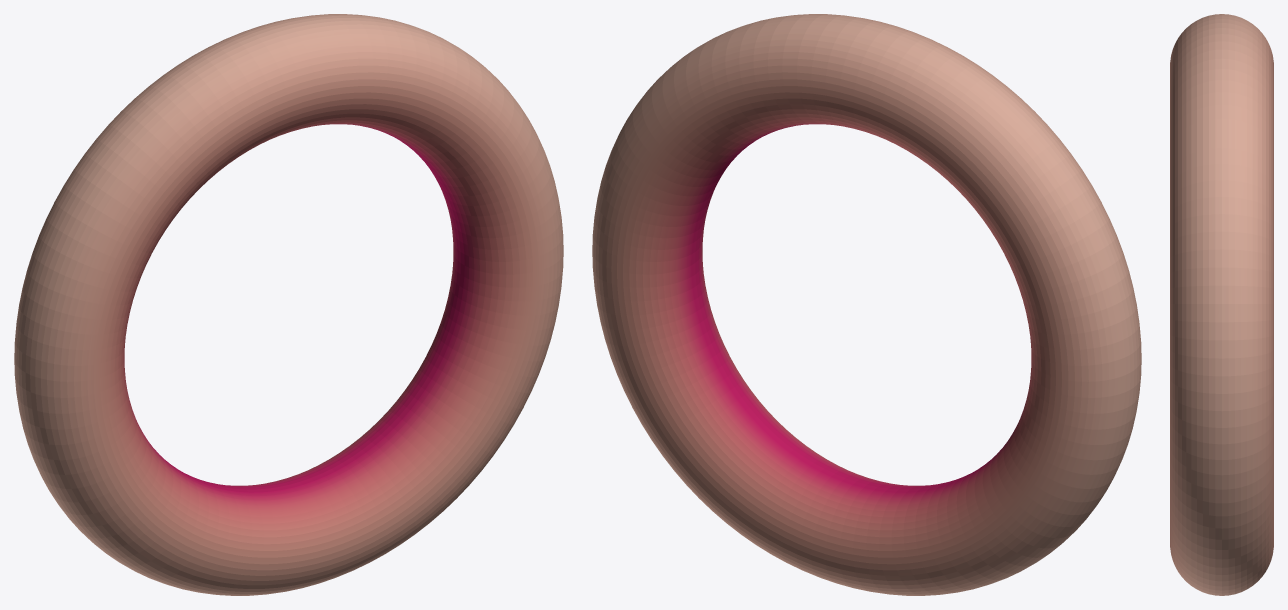
The picture shows the model from 3 angles, left to right: view 1: azimuth 30°, elevation 25°; view 2: azimuth 150°, elevation 25°; view 3: azimuth 270°, elevation 25°; orthographic projection. The views are drawn at different scales.
Visible parts, largest first — view 1: world; view 2: world; view 3: world.
Boxes of the visible parts, box(x1,y1,x2,y2) form: world: box(14, 14, 563, 595); world: box(592, 14, 1141, 595); world: box(1170, 14, 1273, 595).
Bounding box in the file's own units: 31.11 × 31.11 × 5.54.
